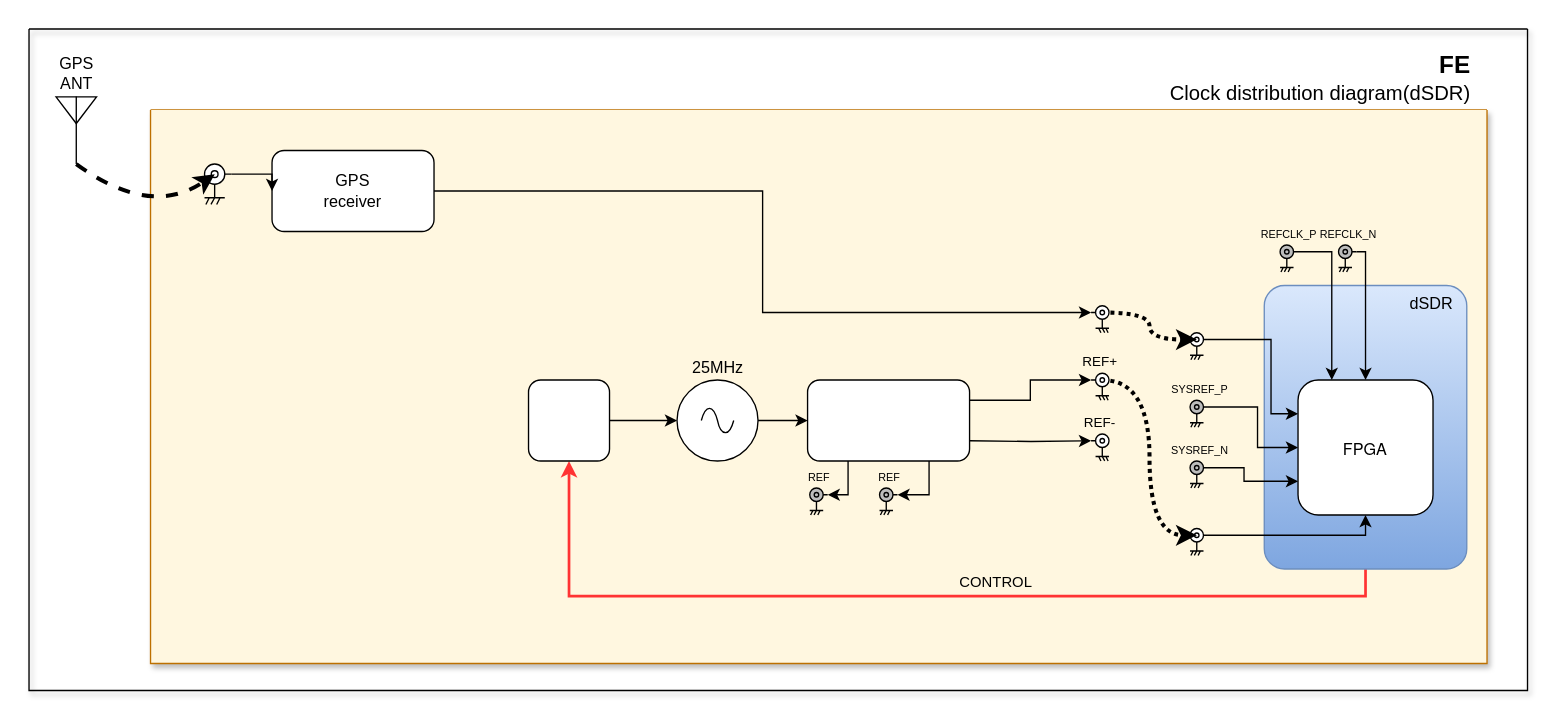
The diagram is 1559 pixels wide and 724 high, and some of its shapes have lost their labels. The centre of each missing label's shape, as x and y in pixels:
1PPS_OUT: point 1099,318
1PPS_SYNC: point 1198,345
DAC: point 568,420
GPS: point 217,184
LMK1C1104: point 888,420
REFCLK: point 1198,541
